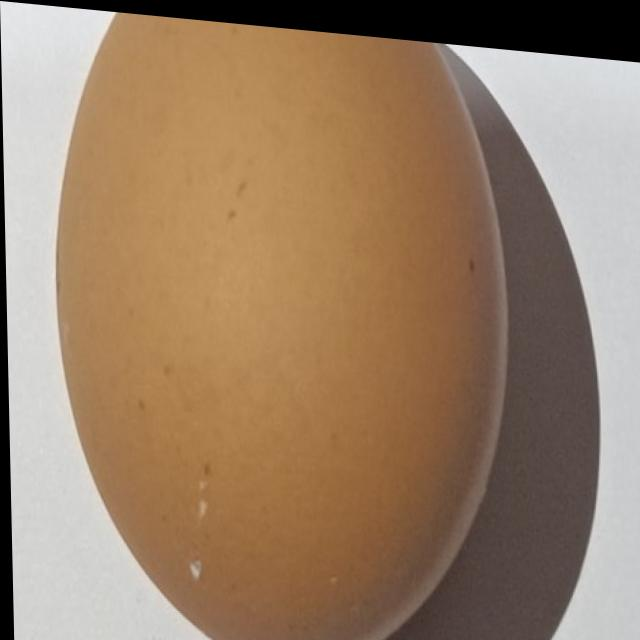fresh: (46, 3, 503, 640)
